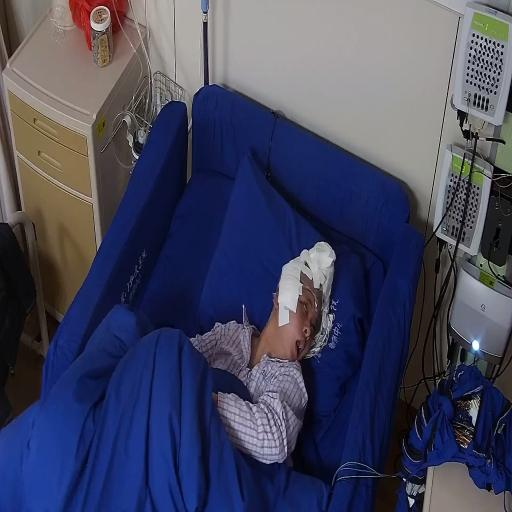Seizure: (272, 249, 326, 361)
